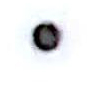cancer: (14, 6, 81, 67)
